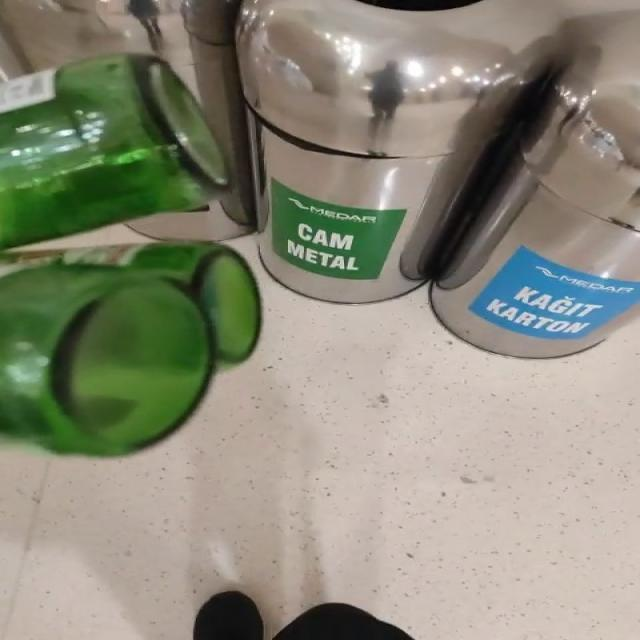Bin: (235, 0, 639, 357)
Glass: (1, 244, 260, 456), (1, 53, 227, 248)
